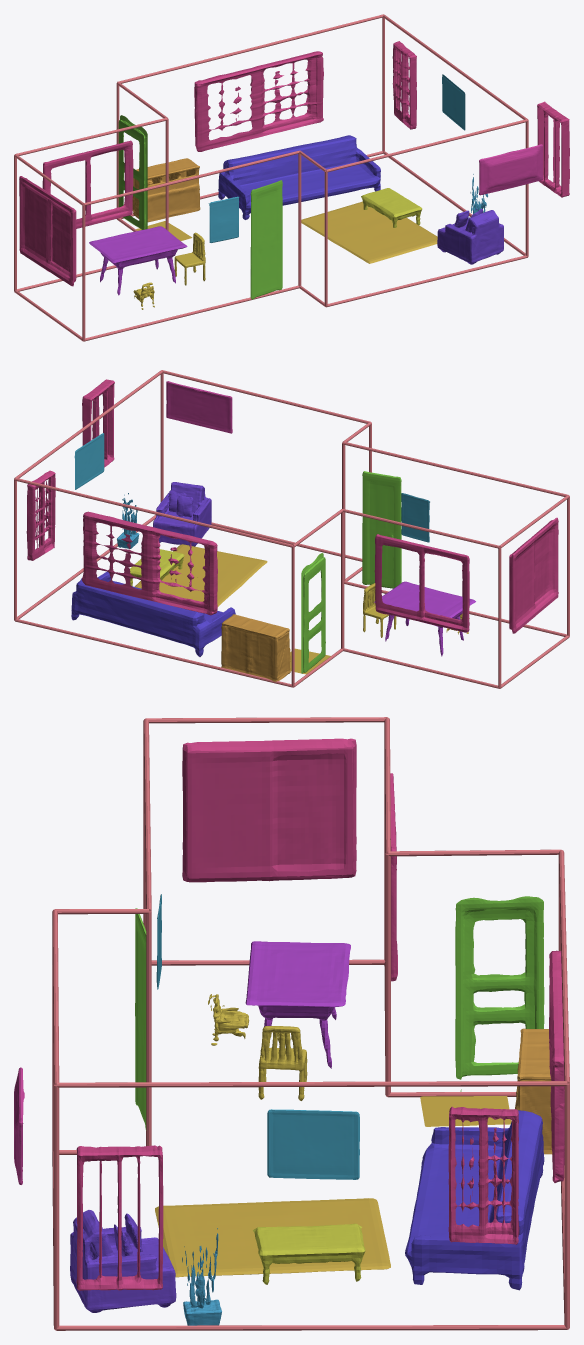
File: Ours-Merom_1_int-00086-rgb.glb
3 renders of one model, top to bottom at view 1: azimuth 30°, elevation 25°; view 2: azimuth 150°, elevation 25°; view 3: azimuth 270°, elevation 25°, orthographic. The views are drawn at different scales.
Visible parts, largest first — view 1: world; view 2: world; view 3: world.
Boxes of the visible parts, box(x1,y1,x2,y2) form: world: box(14, 14, 569, 341); world: box(14, 370, 569, 688); world: box(14, 717, 569, 1330).
Bounding box in the file's own units: 8.94 × 2.53 × 5.08.
